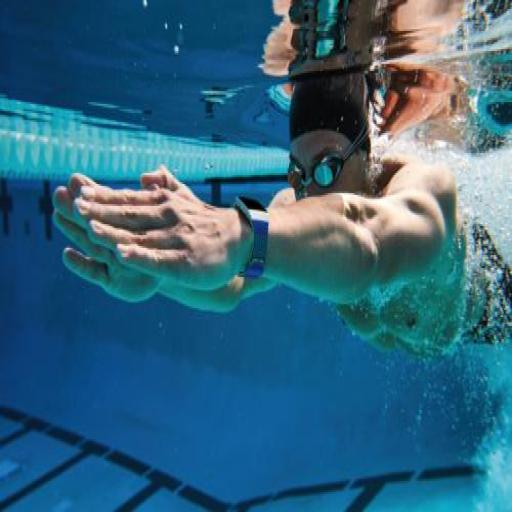swimming: (50, 52, 510, 362)
